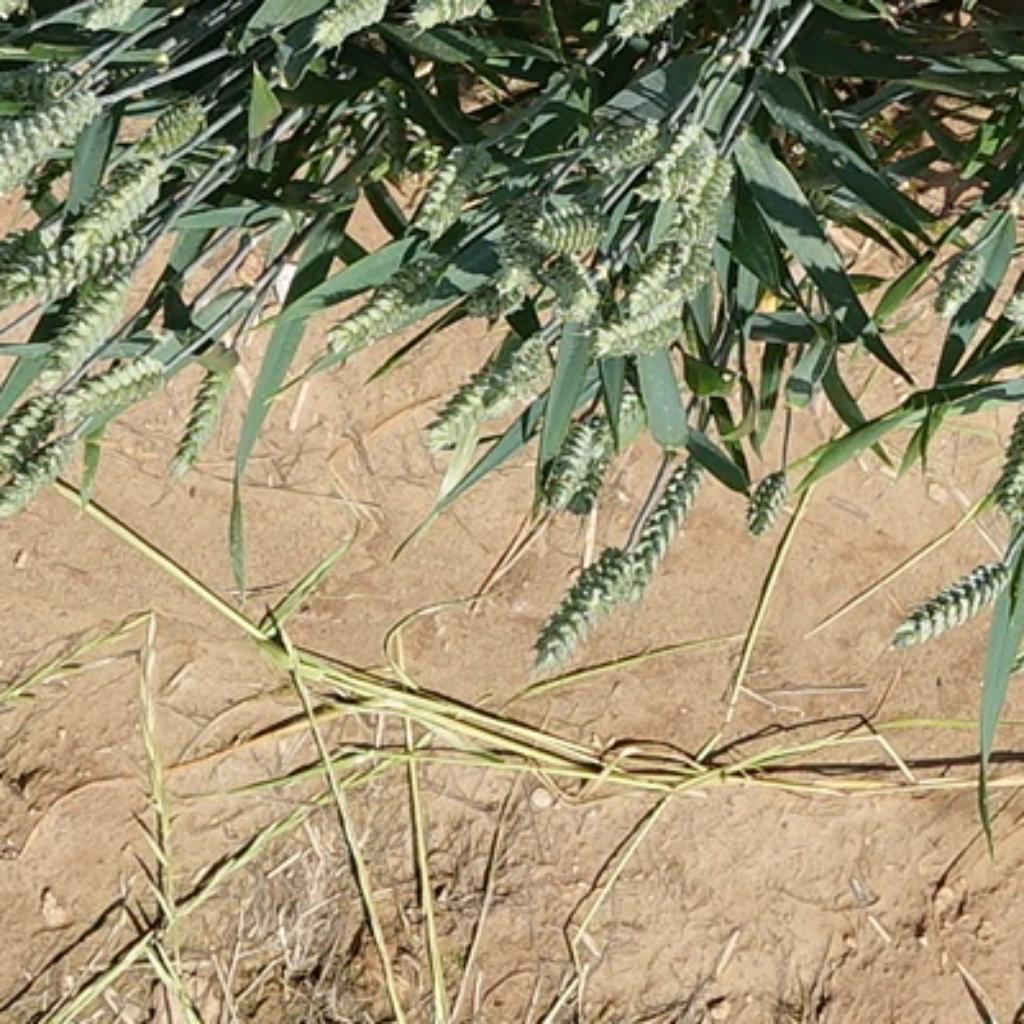0-0: (875, 532, 1024, 660), (417, 320, 560, 448), (312, 245, 455, 363), (156, 332, 240, 524), (519, 544, 636, 681), (620, 452, 703, 599), (43, 261, 133, 396), (1, 100, 106, 208), (593, 266, 711, 358), (66, 163, 176, 261), (56, 348, 171, 427), (407, 130, 494, 232), (537, 401, 619, 509), (494, 186, 609, 263), (601, 240, 696, 322), (43, 238, 151, 309), (0, 429, 74, 528), (675, 158, 737, 271), (125, 89, 215, 166), (573, 104, 668, 176), (476, 230, 550, 317), (650, 112, 716, 207), (929, 230, 993, 317), (980, 399, 1024, 524), (2, 217, 61, 309), (739, 458, 803, 535), (0, 385, 57, 470), (12, 50, 93, 105), (307, 0, 396, 46), (601, 0, 701, 40), (404, 0, 499, 30), (75, 0, 159, 33), (1018, 560, 1024, 678)
